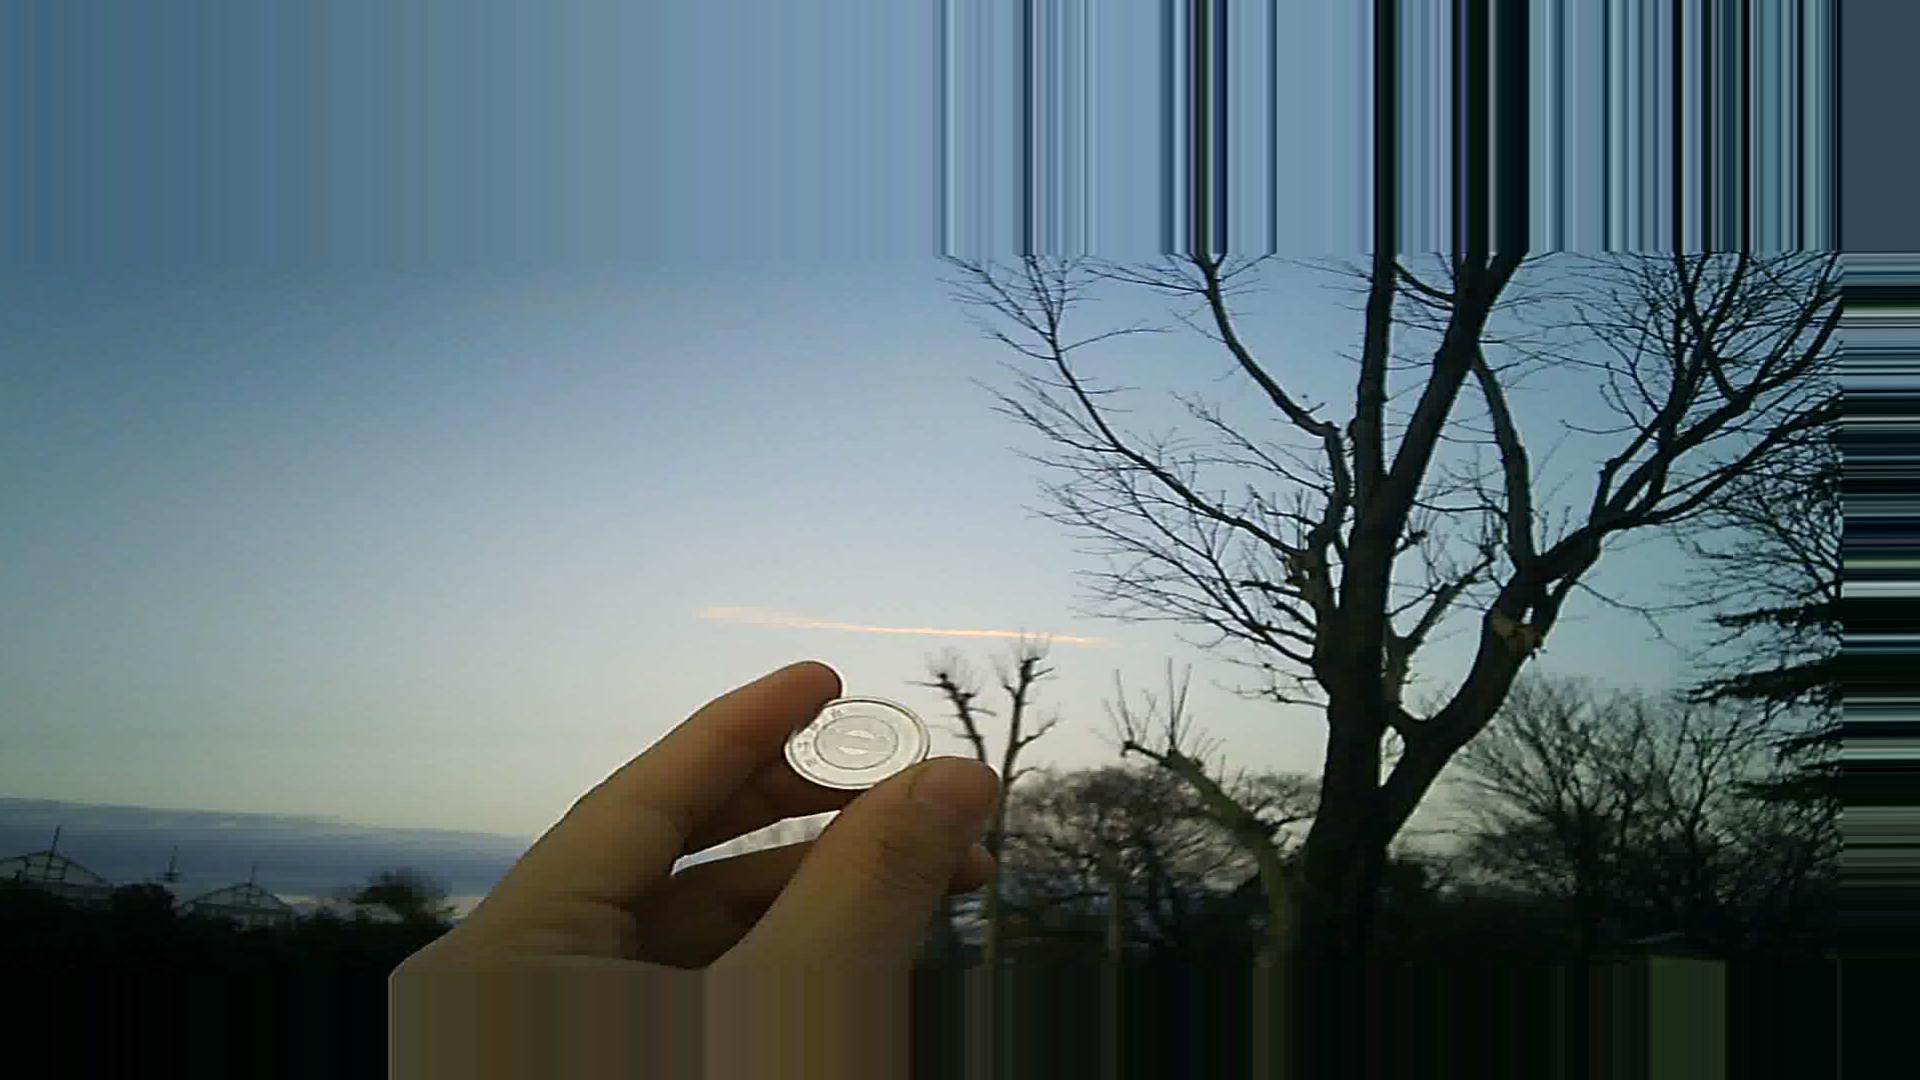1 Yen: (775, 682, 932, 791)
